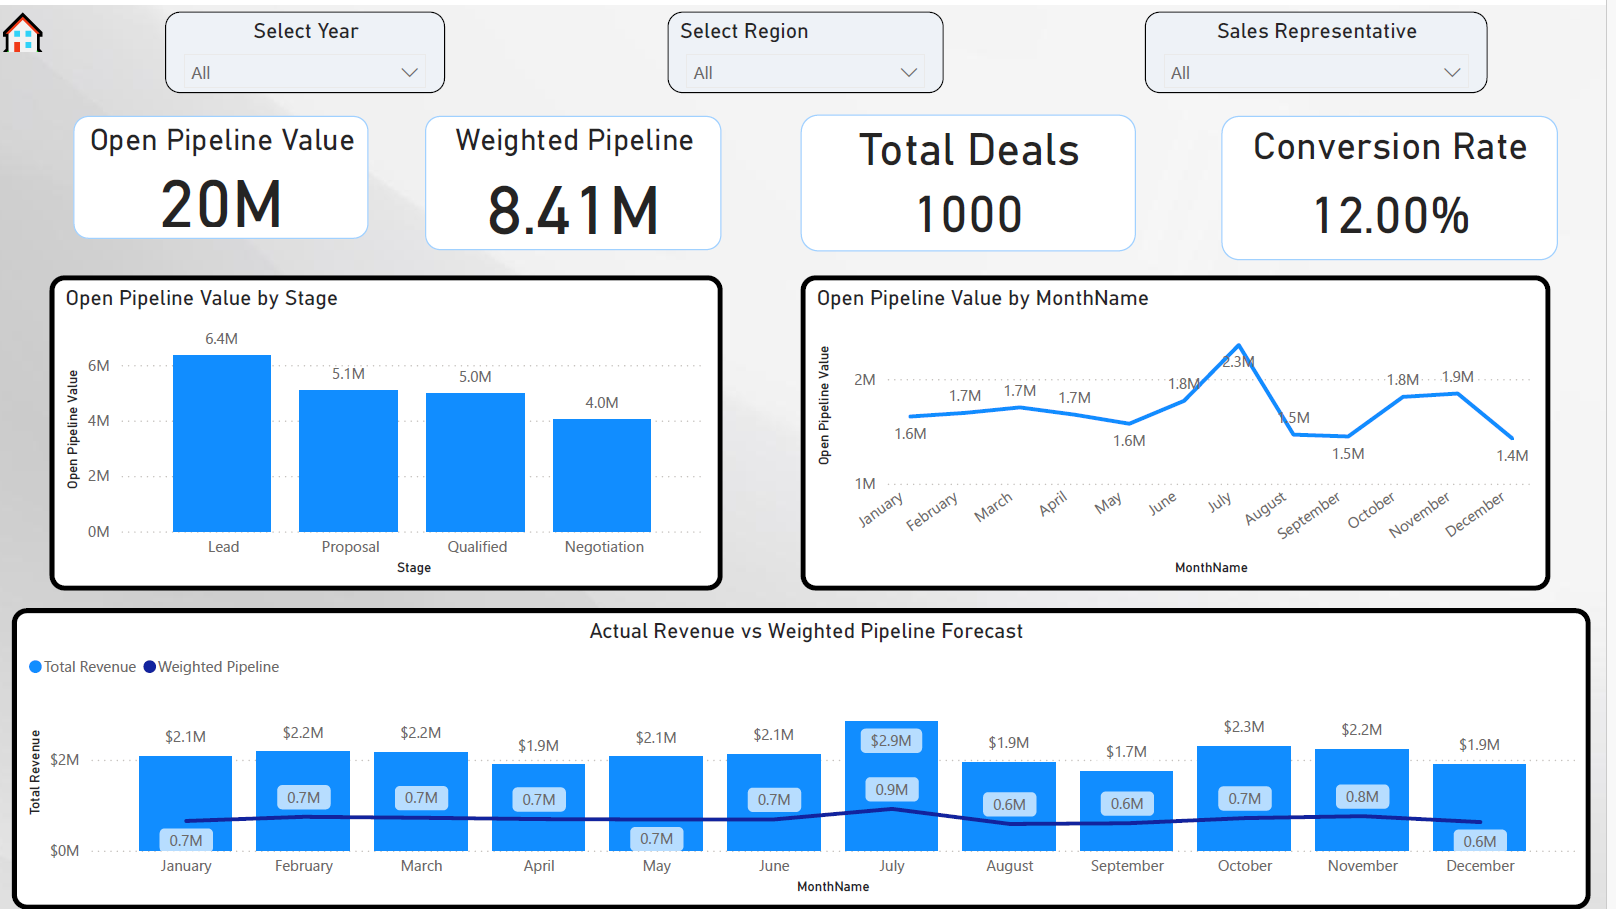

What the dashboard file says about the page in this screenshot:
{"tool":"powerbi","page":{"name":"Pipeline Forecast & Revenue Insights","canvas":[1280,720],"ordinal":5},"visuals":[{"type":"card","title":"Open Pipeline Value","fields":{"Values":["Measures (2).Open Pipeline Value"]},"box":[60.3,88.1,235.3,97.7],"z":0},{"type":"card","title":"Weighted Pipeline","fields":{"Values":["Measures (2).Weighted Pipeline"]},"box":[340.2,88.1,236.5,107.4],"z":1000},{"type":"card","title":"Total Deals","fields":{"Values":["Fact_Deals.Total Deals"]},"box":[639.4,86.9,266.6,108.6],"z":2000},{"type":"card","title":"Conversion Rate","fields":{"Values":["Fact_Deals.Conversion Rate %"]},"box":[973.6,88.1,267.8,114.6],"z":3000},{"type":"clusteredColumnChart","fields":{"Category":["Fact_Deals.Stage"],"Y":["Measures (2).Open Pipeline Value"]},"box":[41,214.7,535.7,250.9],"z":4000},{"type":"lineChart","fields":{"Category":["Dim_Date.MonthName"],"Y":["Measures (2).Open Pipeline Value"]},"box":[639.4,214.7,597.2,250.9],"z":5000},{"type":"lineStackedColumnComboChart","title":"Actual Revenue vs Weighted Pipeline Forecast","fields":{"Category":["Dim_Date.MonthName"],"Y2":["Measures (2).Weighted Pipeline"],"Y":["Fact_Deals.Total Revenue"]},"box":[10.9,480.2,1257.1,240.1],"z":6000},{"type":"slicer","title":"Select Year ","fields":{"Values":["Dim_Date.Year"]},"box":[133.3,4.9,222.6,64.8],"z":7000},{"type":"slicer","title":"Select Region","fields":{"Values":["Dim_Customer.Region"]},"box":[533.2,4.9,220.1,64.8],"z":8000},{"type":"slicer","title":"Sales Representative","fields":{"Values":["Dim_SalesRep.SalesRepName"]},"box":[913.5,4.9,272.7,64.8],"z":9000},{"type":"pageNavigator","title":"🏠","box":[0,0,51.9,37.4],"z":10000}]}

Visuals, with their boxes in screenshot pixels (x1, y1, x2, y2), scaled from the page's 1280x720 canvas onto the 1616x909 screenshot:
"Open Pipeline Value" card: (76,111,373,235)
"Weighted Pipeline" card: (430,111,728,247)
"Total Deals" card: (807,110,1144,247)
"Conversion Rate" card: (1229,111,1567,256)
clusteredColumnChart - Fact_Deals.Stage x Measures (2).Open Pipeline Value: (52,271,728,588)
lineChart - Dim_Date.MonthName x Measures (2).Open Pipeline Value: (807,271,1561,588)
"Actual Revenue vs Weighted Pipeline Forecast" lineStackedColumnComboChart: (14,606,1601,908)
"Select Year " slicer: (168,6,449,88)
"Select Region" slicer: (673,6,951,88)
"Sales Representative" slicer: (1153,6,1498,88)
"🏠" pageNavigator: (0,0,66,47)
